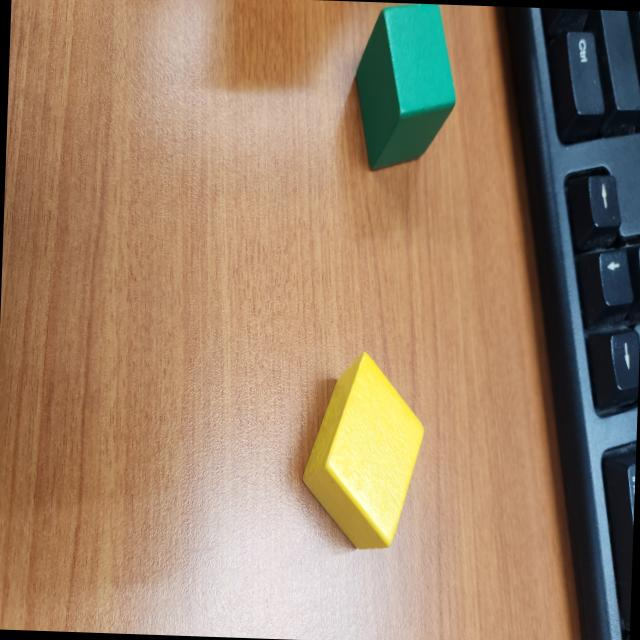green: (354, 4, 453, 168)
yellow: (300, 352, 424, 549)
